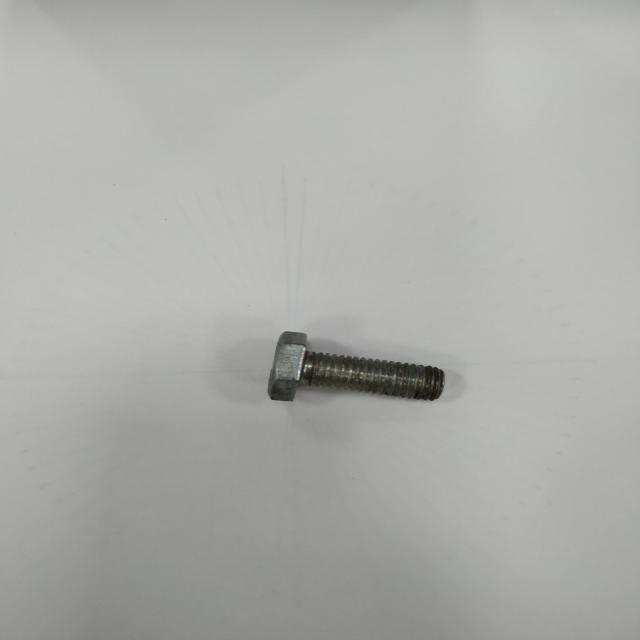Bolt: (268, 331, 445, 401)
